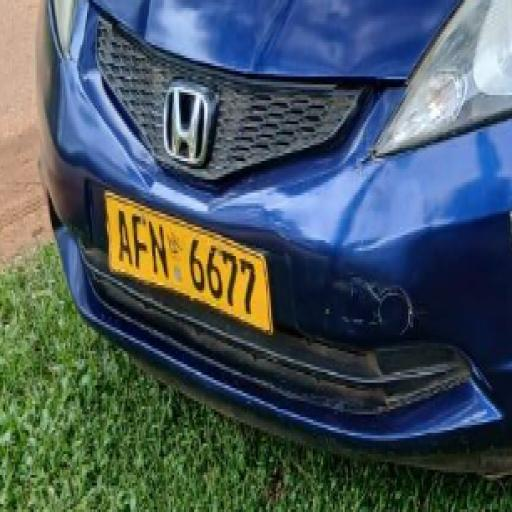number-plates: (106, 194, 255, 314)
